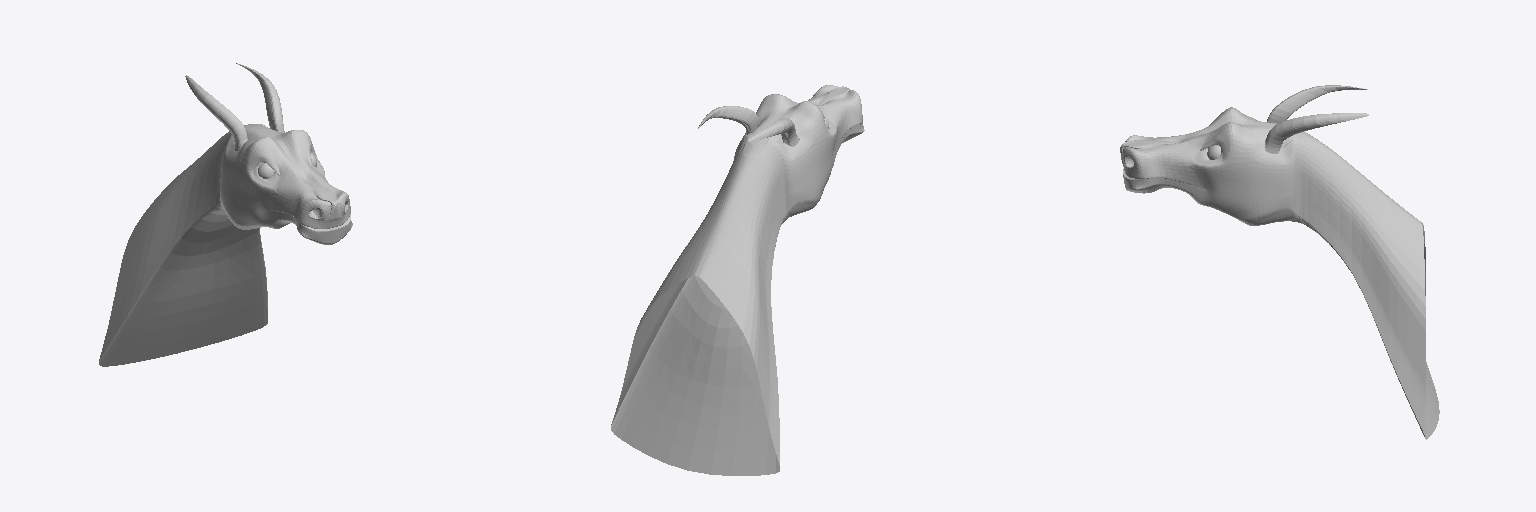
Rendered from dragon.obj.
3 views of the same model, side by side, from view 1: azimuth 30°, elevation 25°; view 2: azimuth 150°, elevation 25°; view 3: azimuth 270°, elevation 25° (orthographic).
Visible parts, largest first — view 1: Cube; view 2: Cube; view 3: Cube.
Part boxes in pixels (x1,y1,x2,y2): Cube: (99, 63, 352, 366); Cube: (611, 85, 864, 475); Cube: (1120, 85, 1439, 439).
Size of the model in its own units: 3.99 by 7.03 by 6.51.